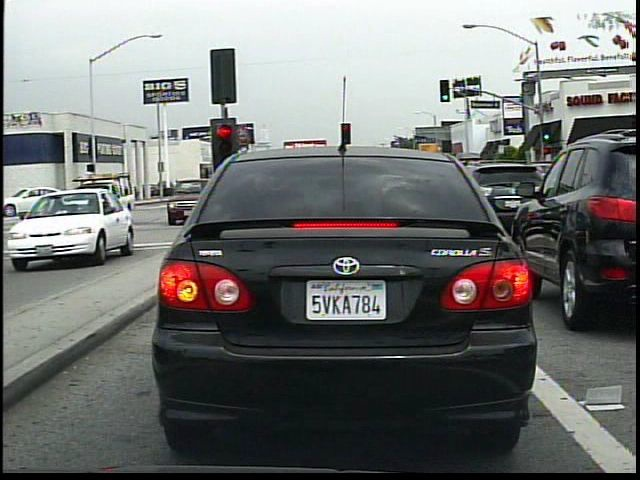person: (168, 170, 190, 199)
